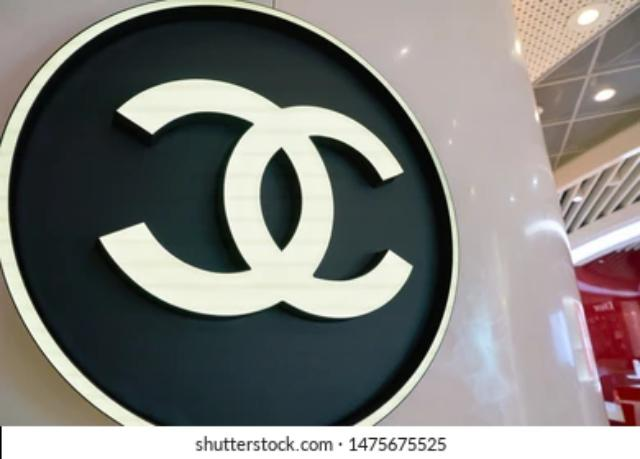Chanel: (0, 1, 490, 426)
